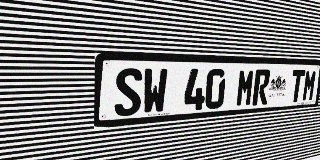0: (204, 69, 226, 110)
4: (183, 69, 207, 111)
M: (235, 69, 255, 107), (302, 70, 317, 102)
R: (252, 69, 271, 106)
S: (114, 68, 142, 117)
T: (289, 70, 305, 103)
W: (142, 68, 168, 115)
